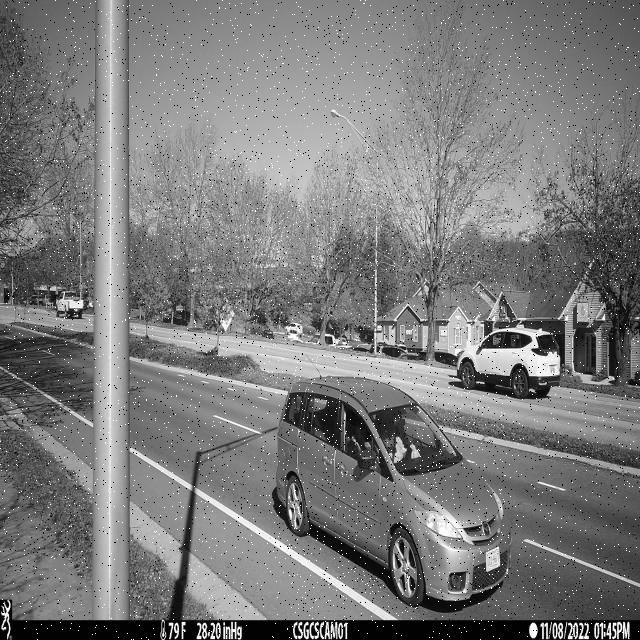Van: (277, 373, 514, 608)
